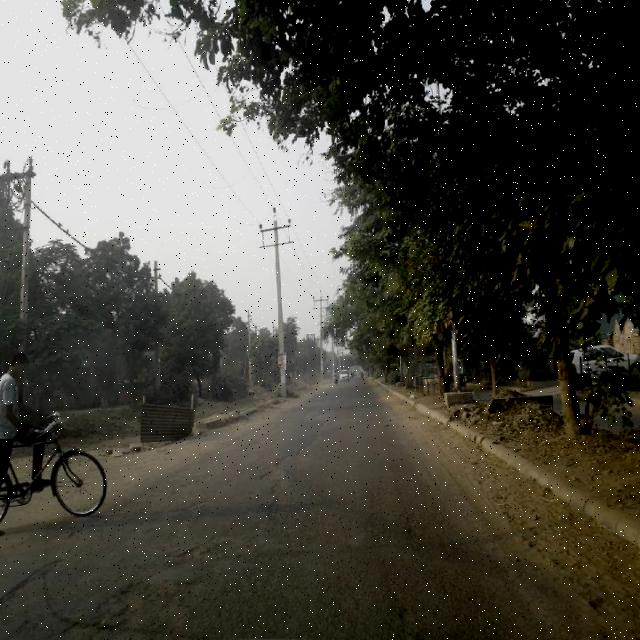D40: (70, 570, 204, 639), (258, 459, 298, 528)
